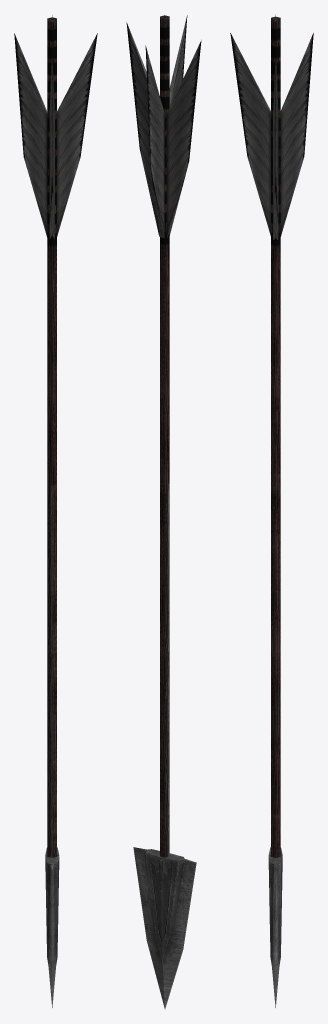
The model's file is Arrow.FBX.
The picture shows the model from 3 angles, left to right: view 1: azimuth 90°, elevation 25°; view 2: azimuth 150°, elevation 25°; view 3: azimuth 270°, elevation 25°; orthographic projection.
Visible parts, largest first — view 1: Object001; view 2: Object001; view 3: Object001.
Part boxes in pixels (x1=…): Object001: x1=14, y1=15, x2=97, y2=1007; Object001: x1=126, y1=15, x2=201, y2=1009; Object001: x1=230, y1=14, x2=313, y2=1007.
Bounding box in the file's own units: 2.5 × 31.6 × 2.41.
1 material, 1 textured.
